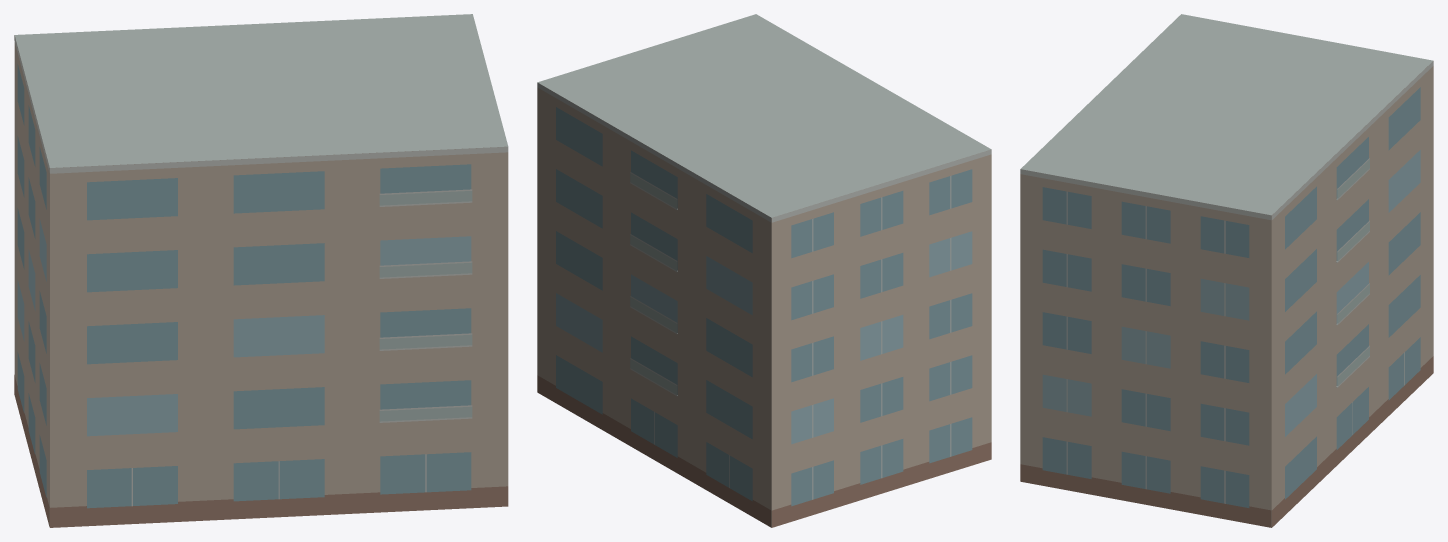
The model's file is survey-upis-32980611.glb.
3 renders of one model, left to right at view 1: azimuth 30°, elevation 25°; view 2: azimuth 150°, elevation 25°; view 3: azimuth 270°, elevation 25°, orthographic. The views are drawn at different scales.
Parts seen in each view (by area): view 1: survey-upis-32980611.tmp; view 2: survey-upis-32980611.tmp; view 3: survey-upis-32980611.tmp.
Boxes of the visible parts, box(x1,y1,x2,y2) form: survey-upis-32980611.tmp: box(14, 14, 508, 527); survey-upis-32980611.tmp: box(537, 14, 991, 527); survey-upis-32980611.tmp: box(1020, 14, 1433, 527).
Bounding box in the file's own units: 21.08 × 15.25 × 18.28.
